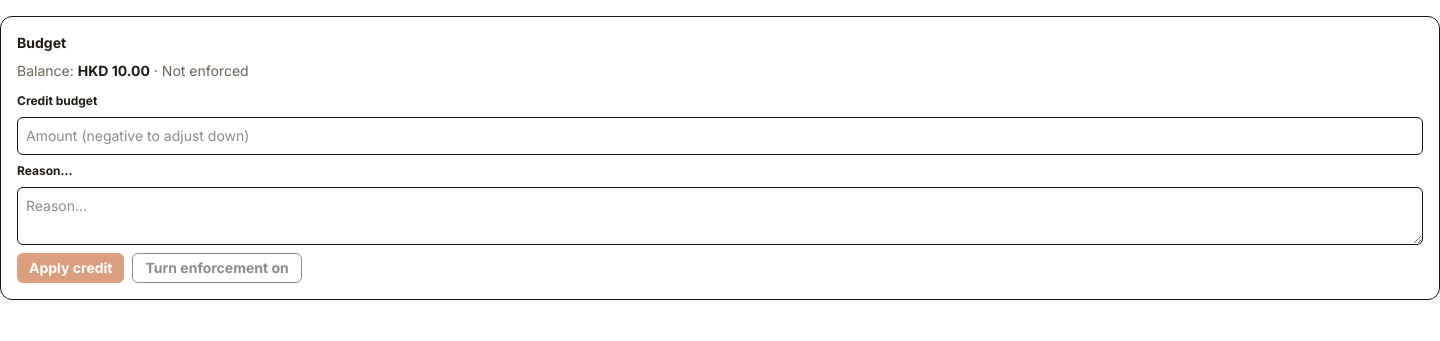
Test: MerchantBudgetPanel › surfaces a server error and keeps the form usable
Type "-500" into the number field labelled "Credit budget" at (720, 136), box [17,117,1423,155]
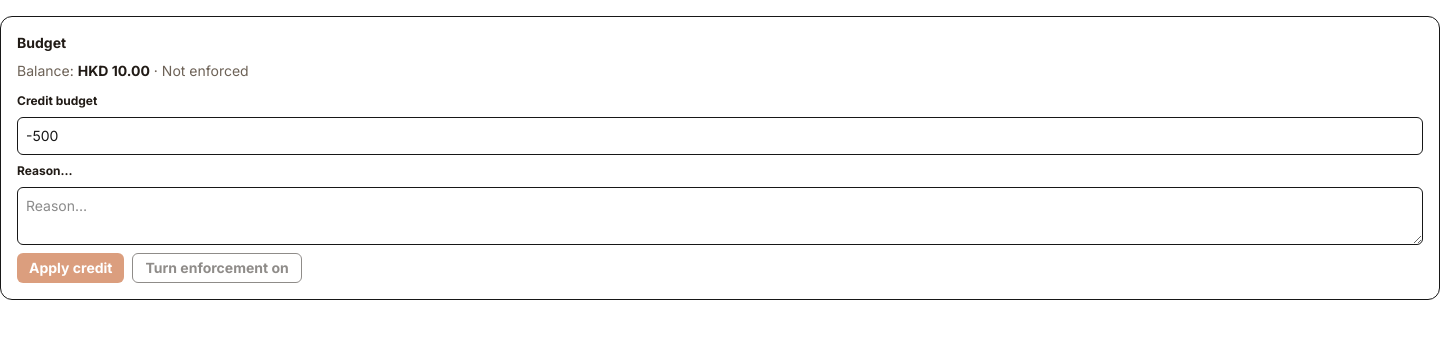
Type "clawback" into the text box labelled "Reason…" at (720, 216), box [17,187,1423,245]
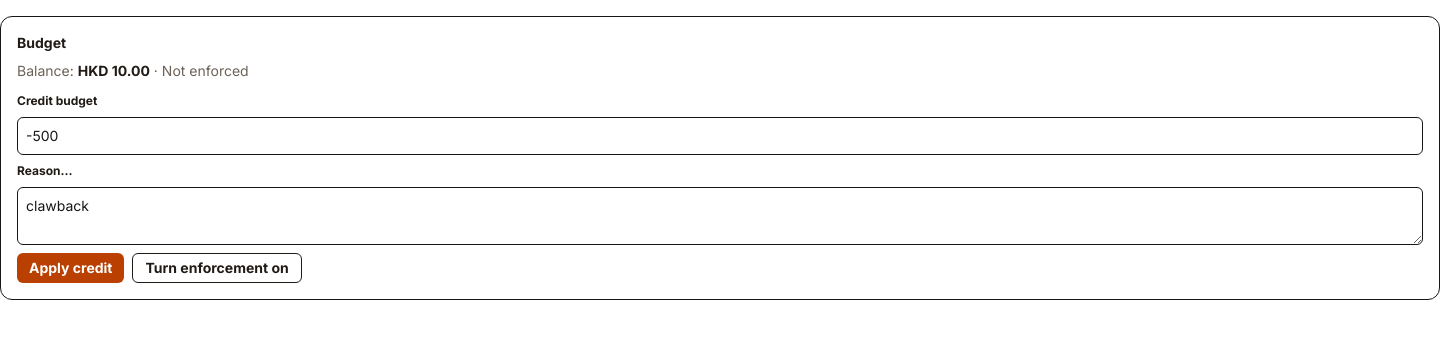
Click the button "Apply credit" at (71, 268), box [17,253,124,283]
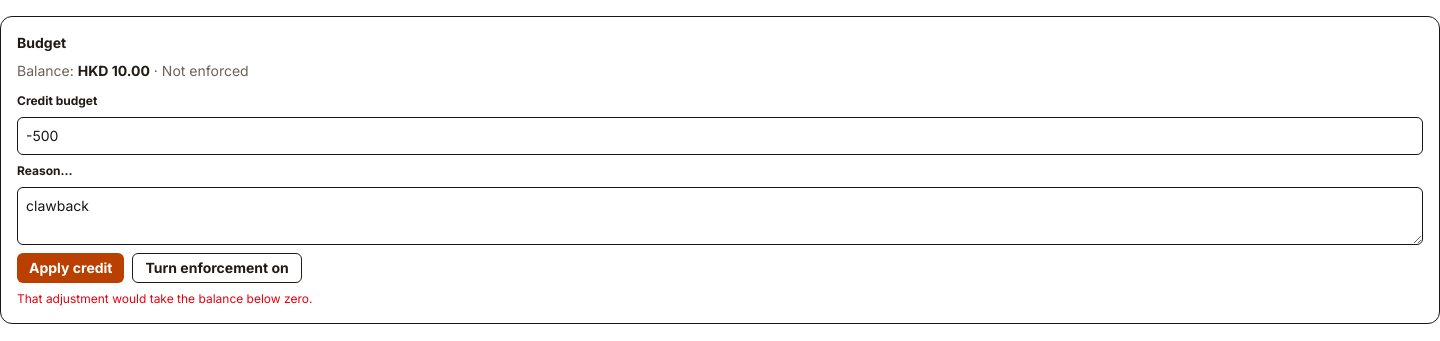
Now the text "That adjustment would take the balance below zero." is shown, box [17,291,312,306]
